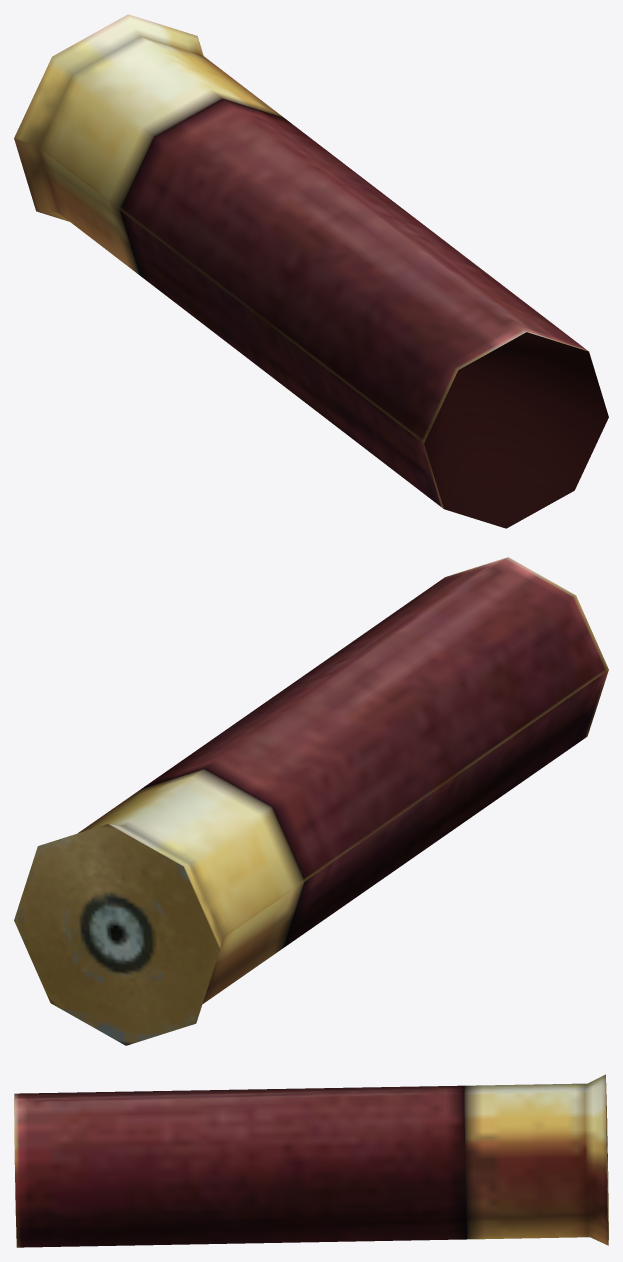
File: w_ShotgunShell.fbx
3 views of the same model, one above another, from view 1: azimuth 30°, elevation 25°; view 2: azimuth 150°, elevation 25°; view 3: azimuth 270°, elevation 25° (orthographic). The views are drawn at different scales.
Visible parts, largest first — view 1: Shotshell_reference; view 2: Shotshell_reference; view 3: Shotshell_reference.
Part boxes in pixels (x1,y1,x2,y2): Shotshell_reference: [14, 14, 608, 528]; Shotshell_reference: [14, 557, 608, 1045]; Shotshell_reference: [14, 1074, 608, 1247].
Bounding box in the file's own units: 82.62 × 83.86 × 279.
